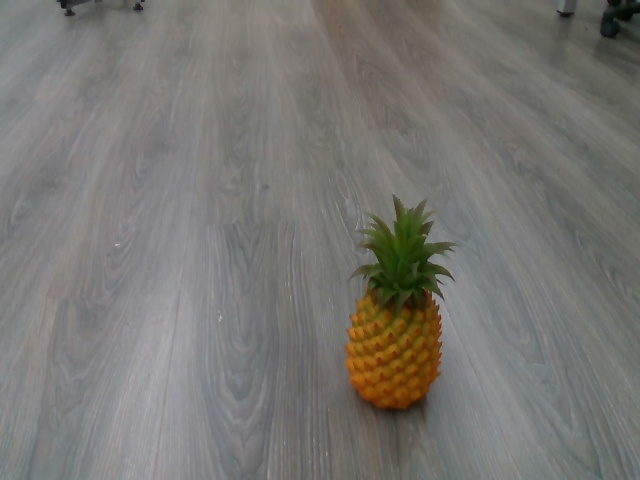pineapple: (338, 191, 460, 416)
